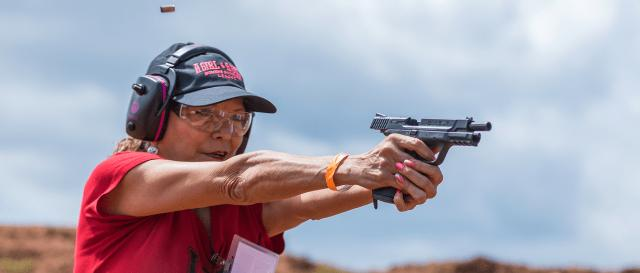handgun: (367, 110, 497, 214)
